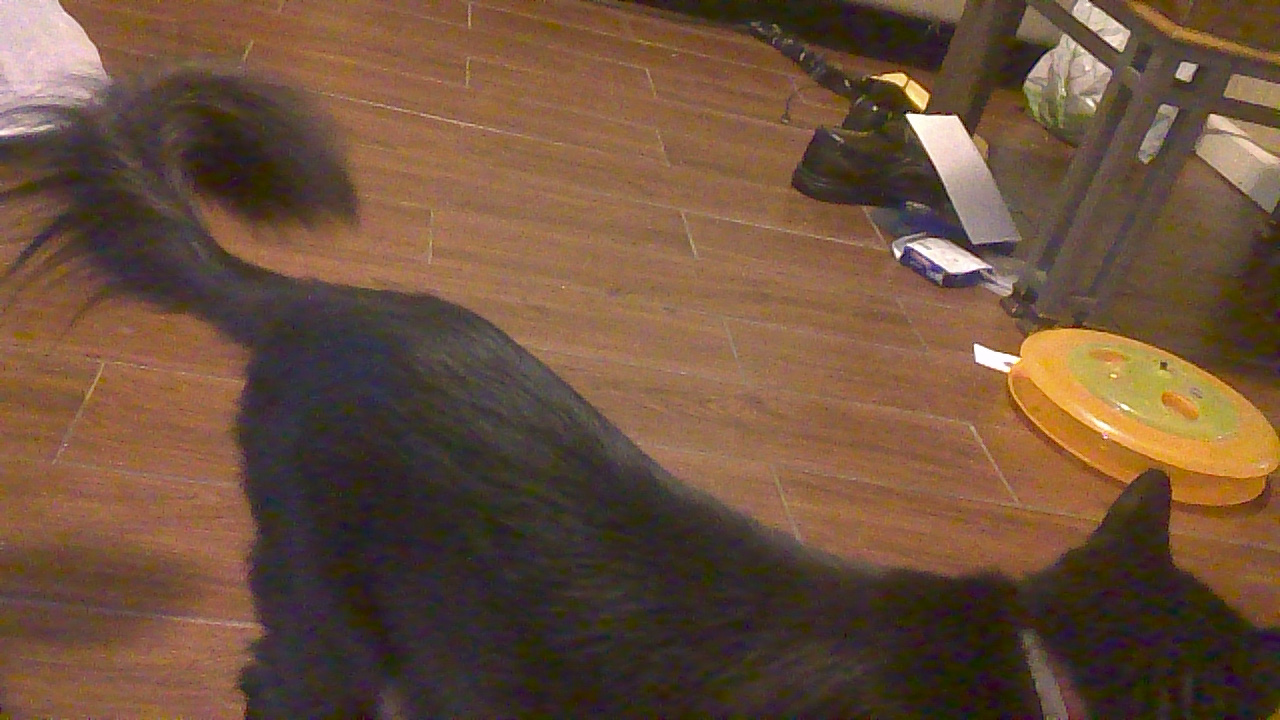cat: (48, 56, 1280, 720)
